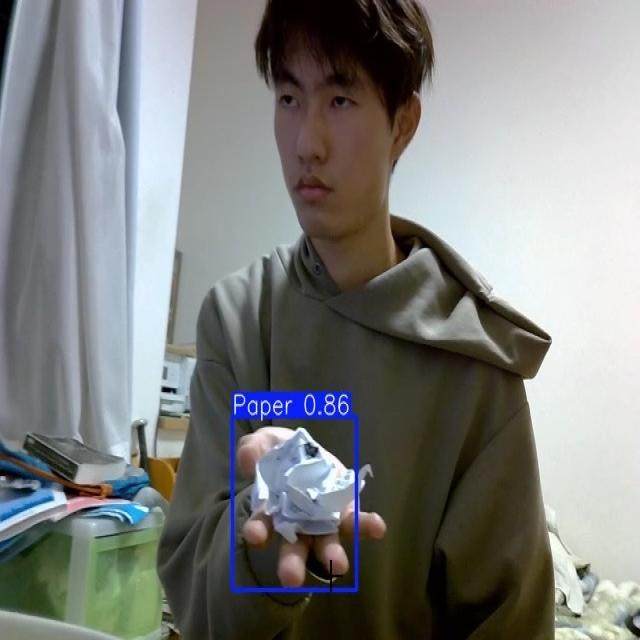paper: (249, 425, 371, 544)
